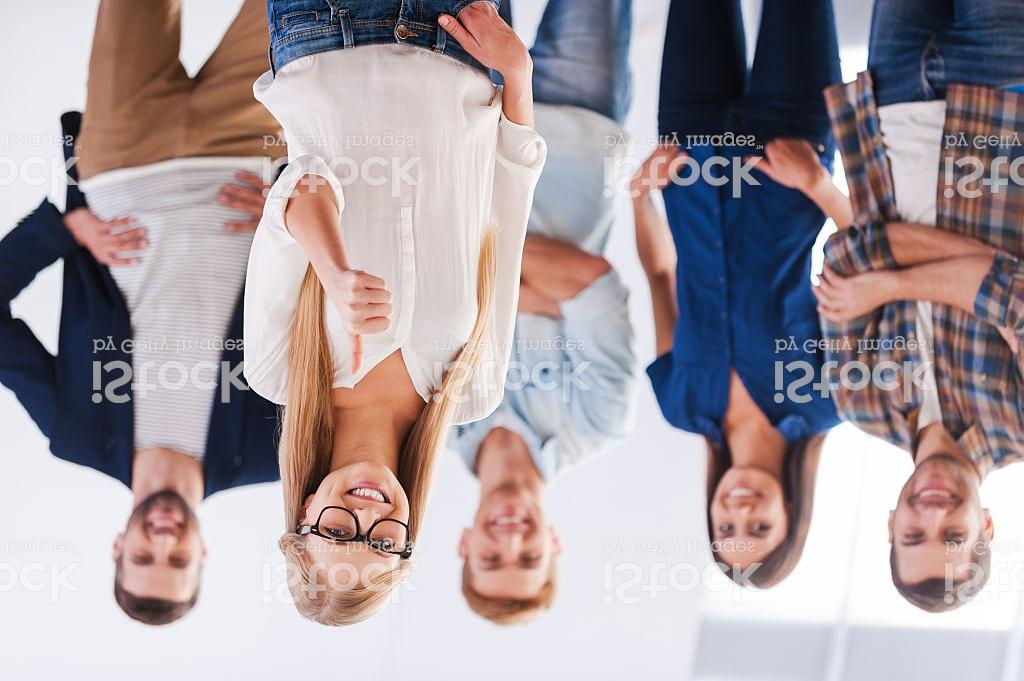thumbsdown: (334, 267, 395, 378)
